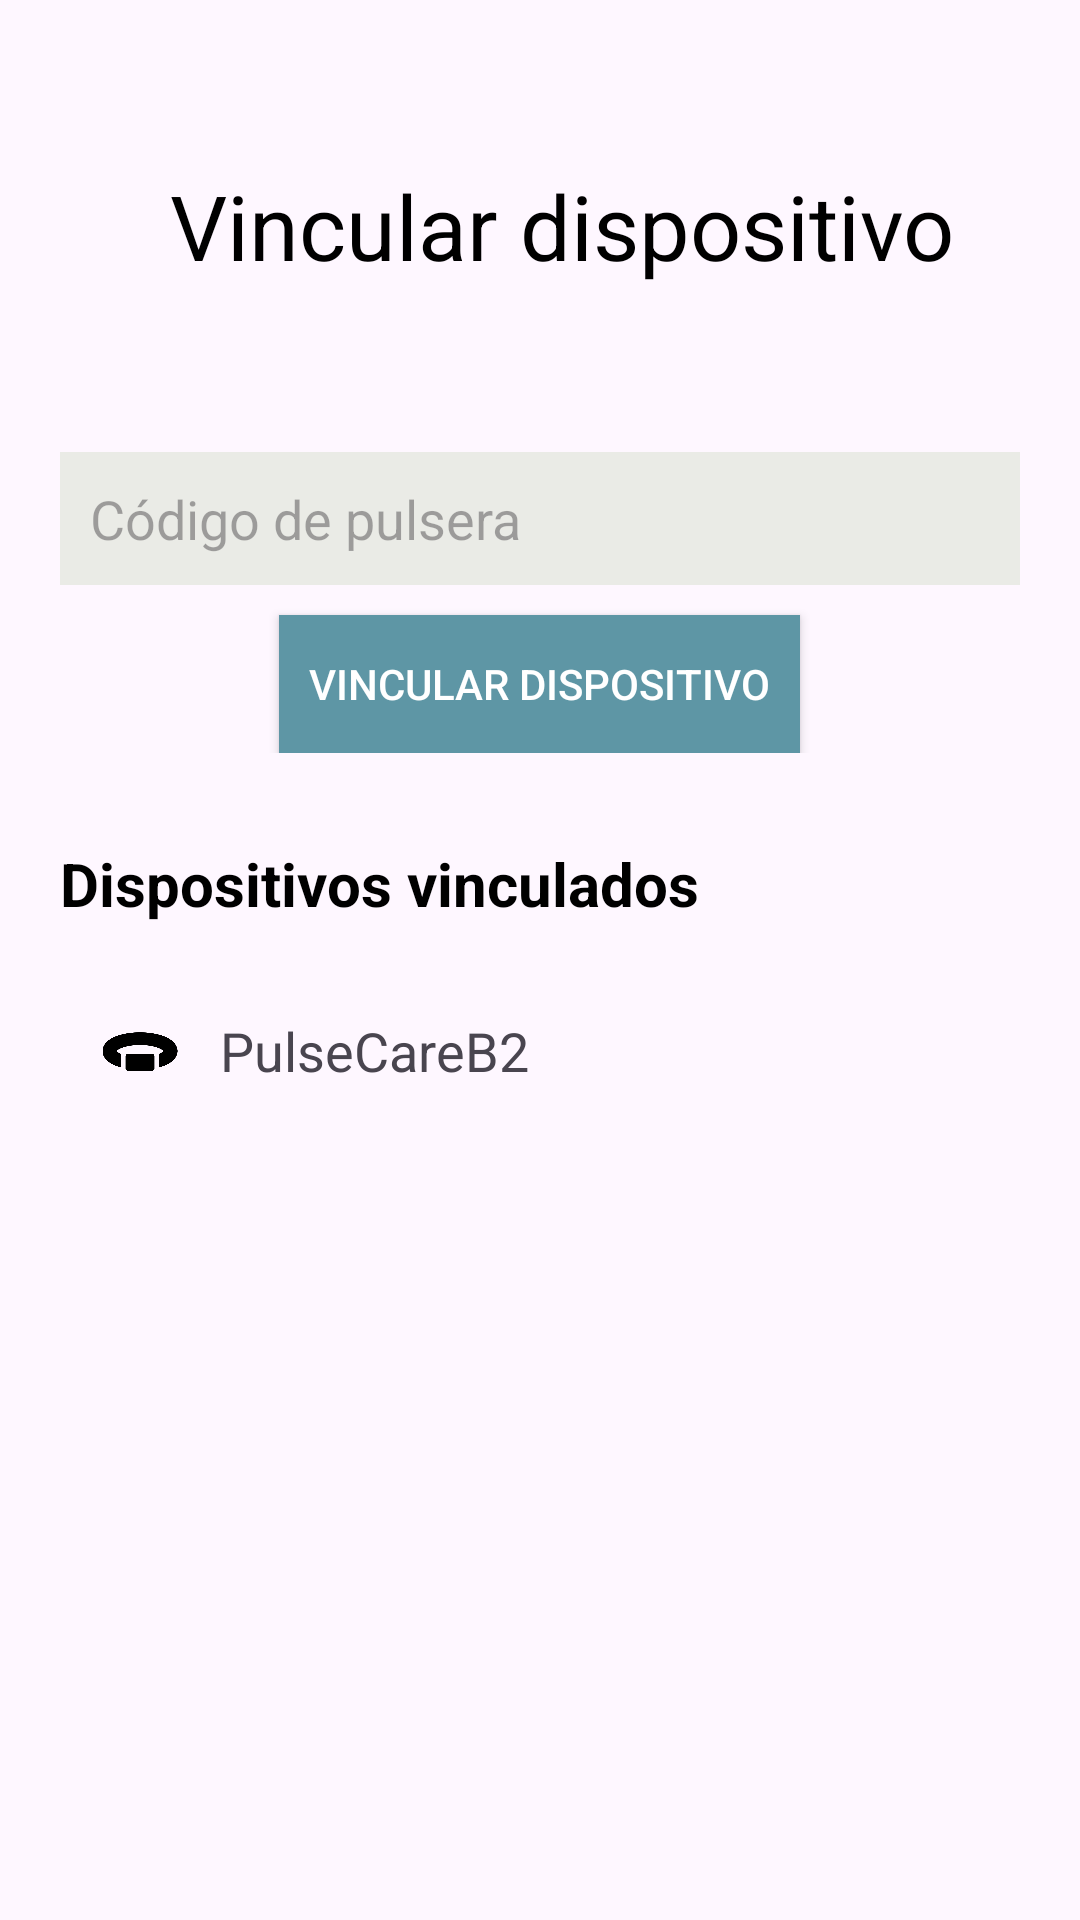

Named icons in this screenshot (1080 × 1920) and their bounding boxes, (x1=x1, y1=y1, x2=x2, y2=y2):
brazalete: (x1=103, y1=1032, x2=178, y2=1071)
